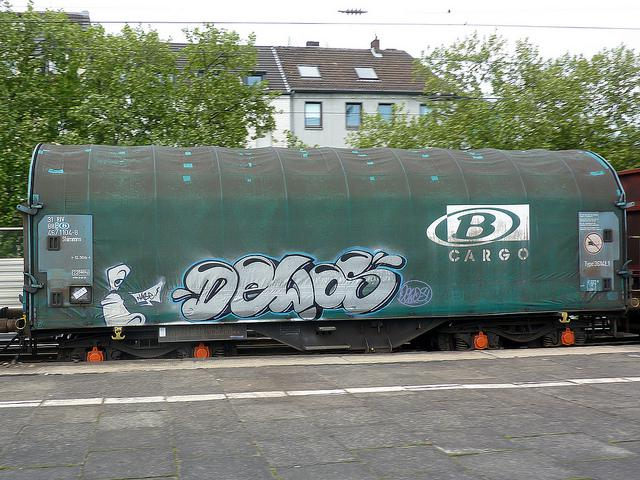Train: (8, 141, 640, 363)
